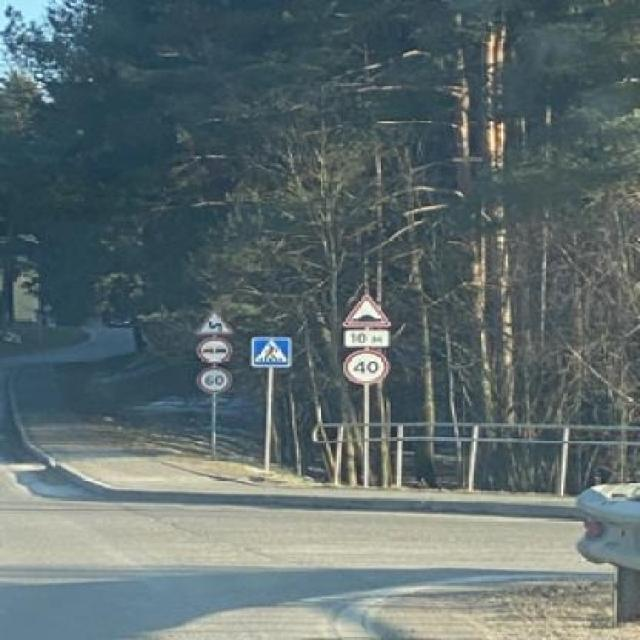forb_speed_over_40: (346, 350, 391, 385)
forb_speed_over_60: (198, 364, 233, 395)
